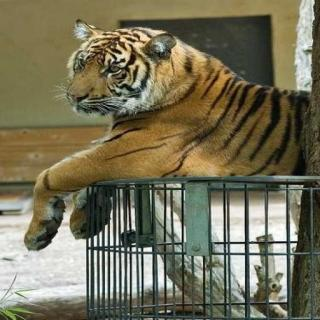Tiger: (22, 15, 320, 256)
